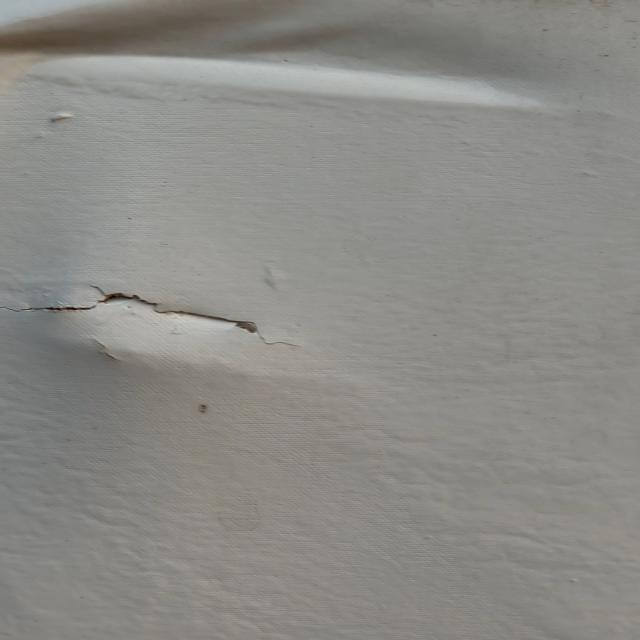Dents or Deformation: (1, 1, 564, 129)
Scratches: (1, 270, 319, 358)
